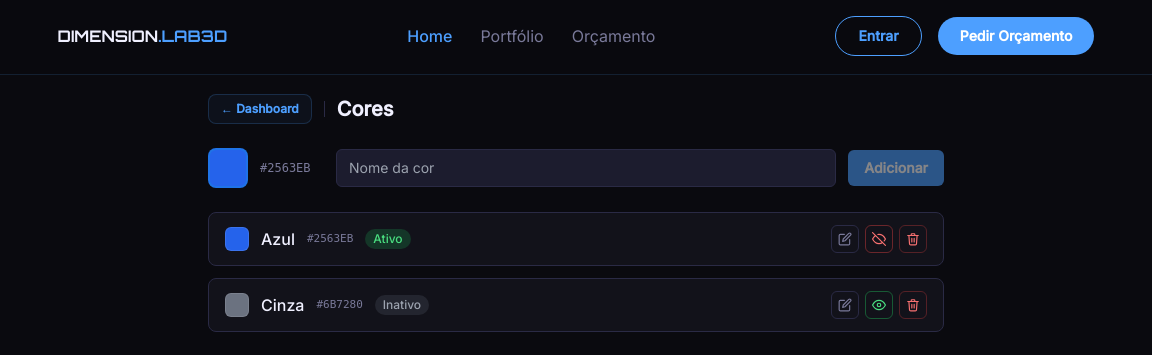
Test case: ColorsAdmin › saves edited color name and hex
Expected: the text "Azul" is shown, [261, 227, 295, 251]
Click the button named "editar" in the row of "Azul". click: (845, 239)
box: [831, 225, 859, 253]
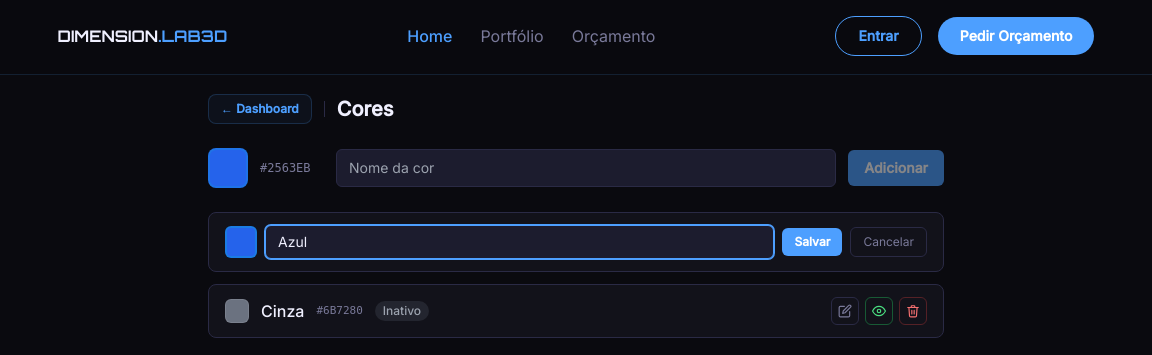
Replace the text in the field showing "Azul" with "Crimson". click: (520, 242)
box: [265, 225, 774, 259]
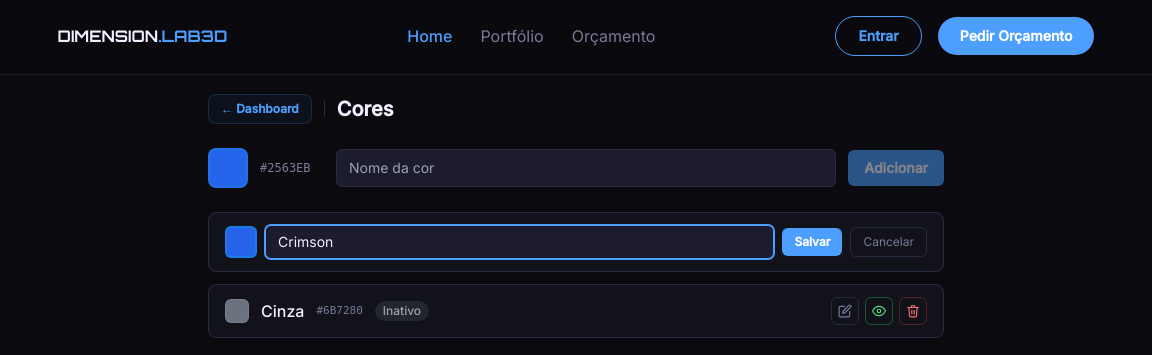
Click the button "Salvar". click: (812, 242)
box: [782, 228, 842, 256]
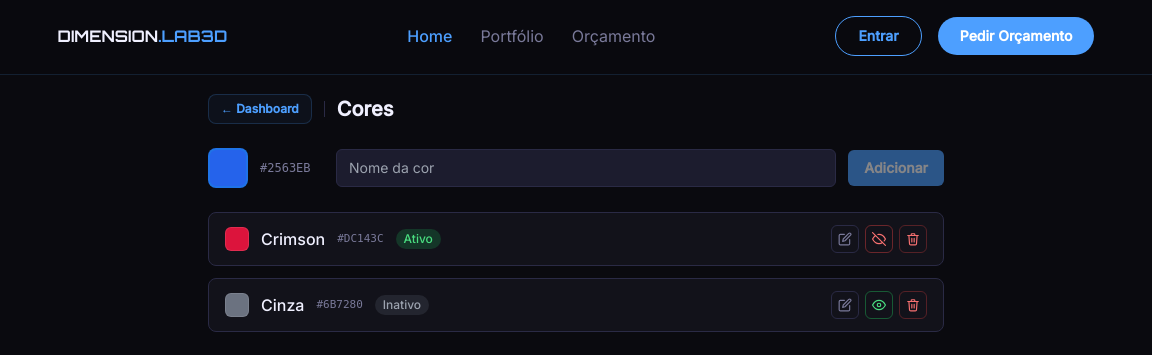
Result: the text "Crimson" is shown at [261, 227, 325, 251]
